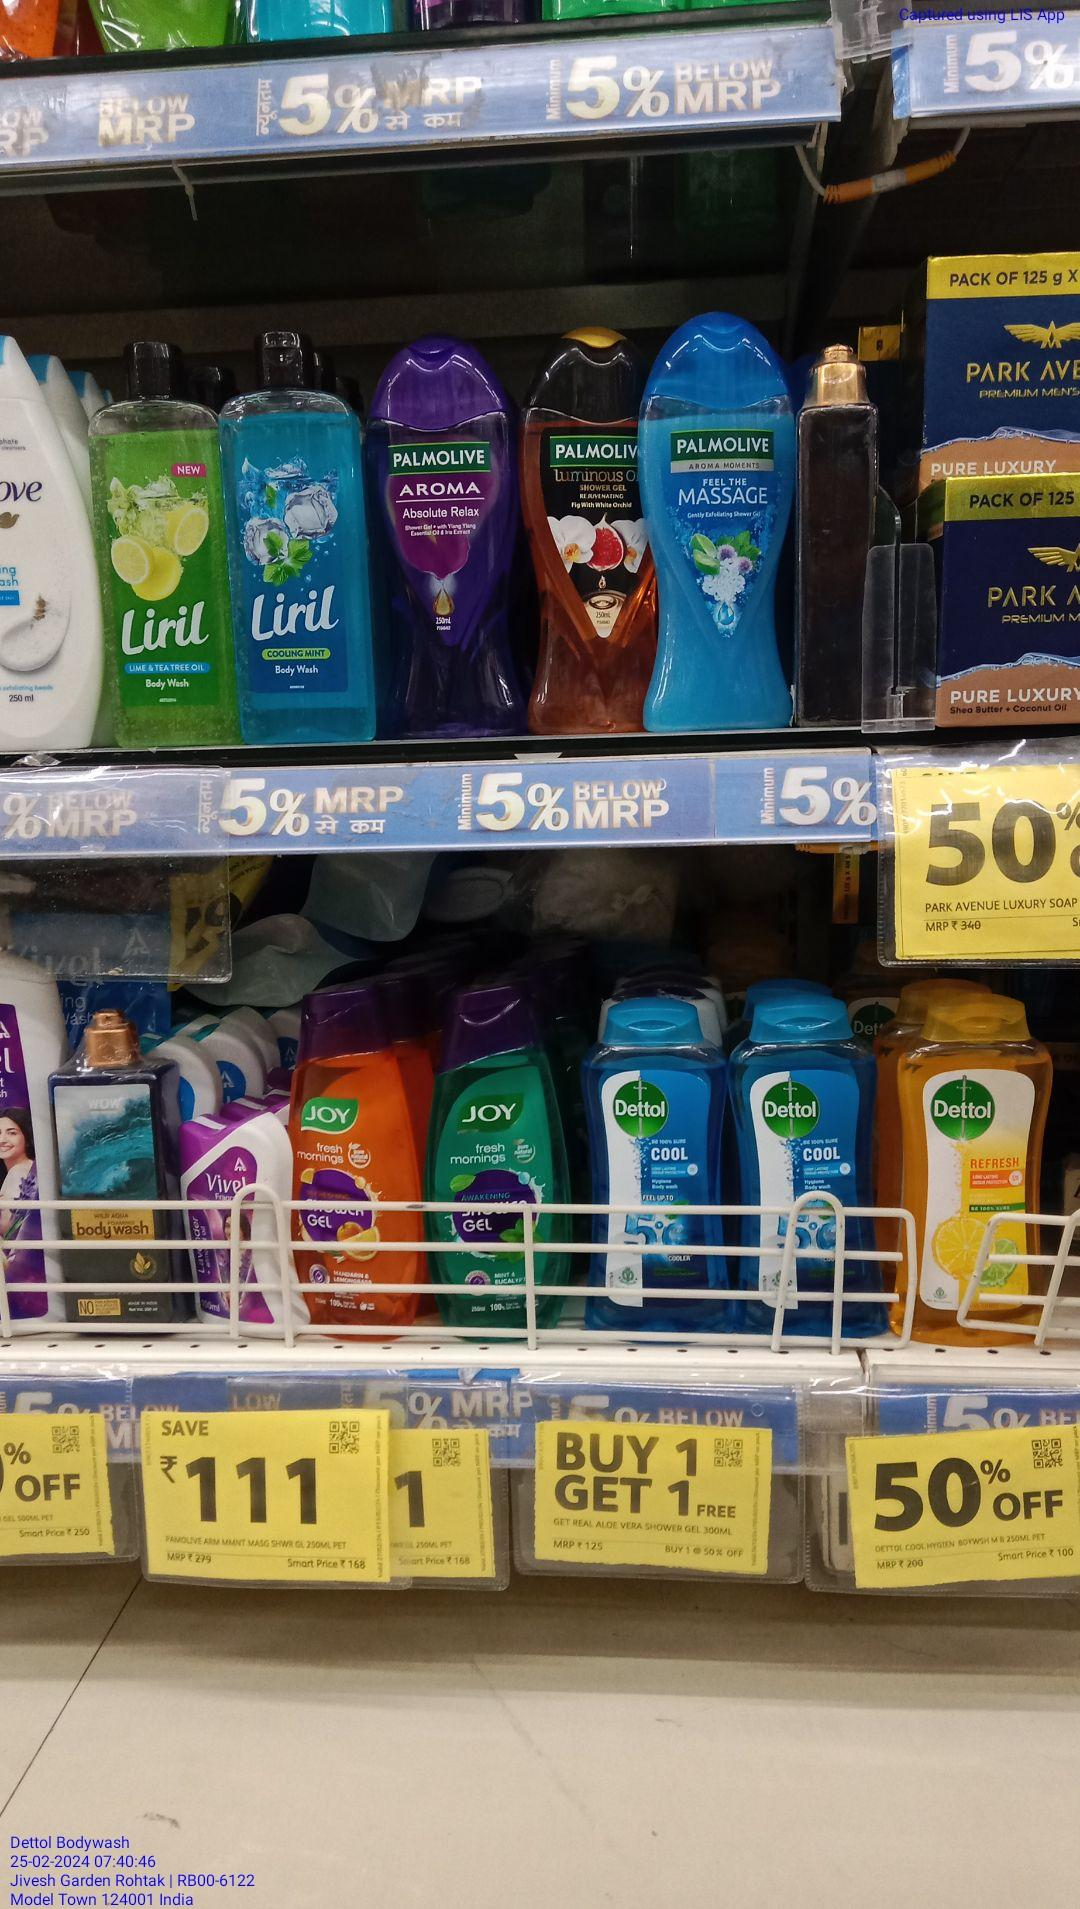Dettol_Bodywash_Cool: (586, 1008, 731, 1336), (744, 1002, 874, 1337)
Dettol_Bodywash_Refresh: (907, 1007, 1046, 1349)
Joy_Shower_Gel_Mandarin_and_Lemongrass_250ML: (288, 985, 418, 1343)
Joy_Shower_Gel_Mint_and_Eucalyptus_250ML: (427, 993, 562, 1344)
Liril_Cooling_Mint_Body_Wash_250ML: (229, 330, 372, 739)
Liril_Lime_and_Tea_Tree_Oil_Body_Wash_250ML: (90, 341, 233, 746)
Palmolive_Aroma_Moments_Feel_The_Massage_Shower_Gel_250ML: (644, 316, 796, 732)
Palmolive_Aroma_Relax_250ML: (383, 344, 523, 741)
Palmolive_Luminous_Oils_With_White_Orchid_Shower_Gel_250ML: (527, 332, 640, 734)
